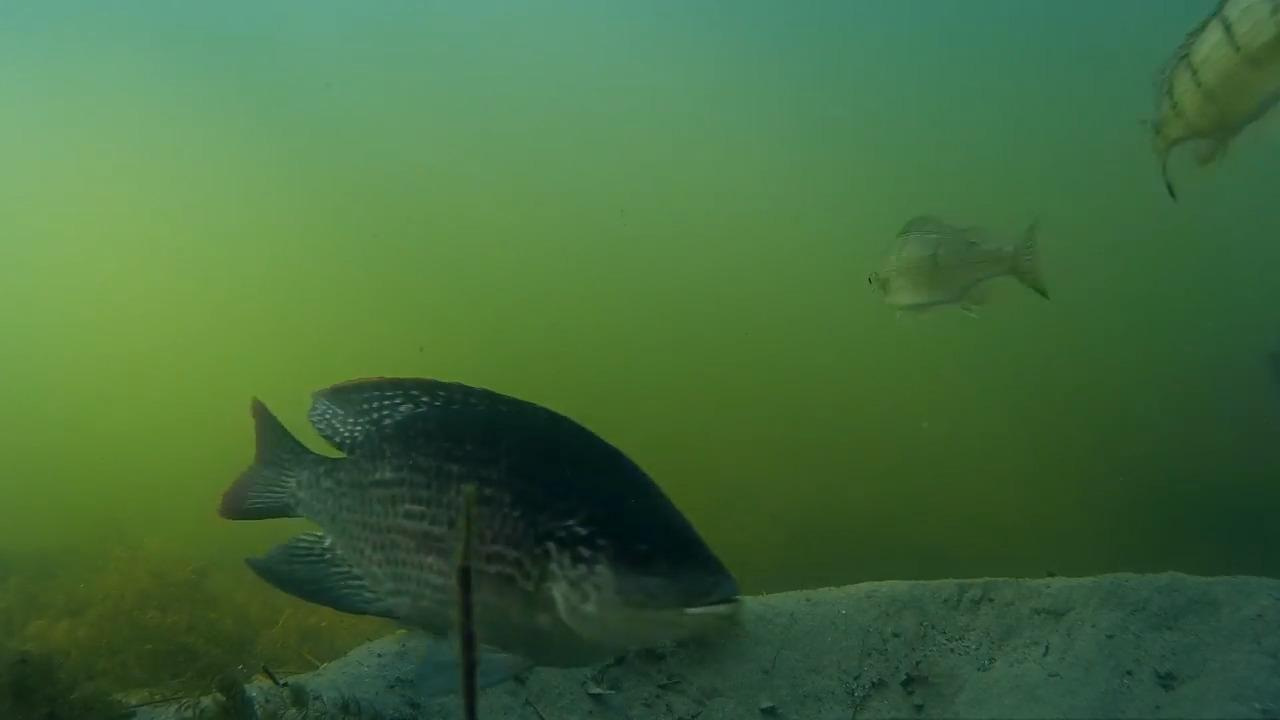Tilapia: (202, 372, 749, 682), (1139, 0, 1280, 214), (855, 198, 1056, 338)
